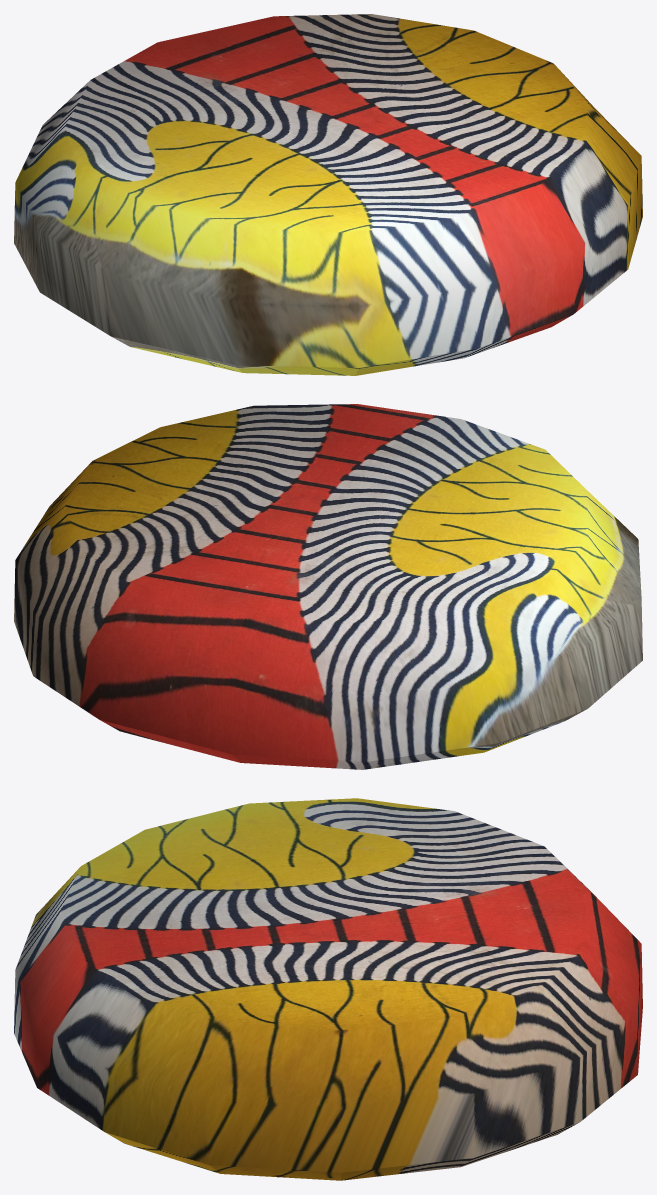
Rendered from bar-stool-top.fbx.
3 renders of one model, top to bottom at view 1: azimuth 30°, elevation 25°; view 2: azimuth 150°, elevation 25°; view 3: azimuth 270°, elevation 25°, orthographic. The views are drawn at different scales.
Parts seen in each view (by area): view 1: bar_stool_top; view 2: bar_stool_top; view 3: bar_stool_top.
Boxes of the visible parts, box(x1,y1,x2,y2) form: bar_stool_top: box(14, 14, 642, 375); bar_stool_top: box(14, 404, 642, 769); bar_stool_top: box(14, 798, 642, 1180).
Bounding box in the file's own units: 76.61 × 18.06 × 73.5.
